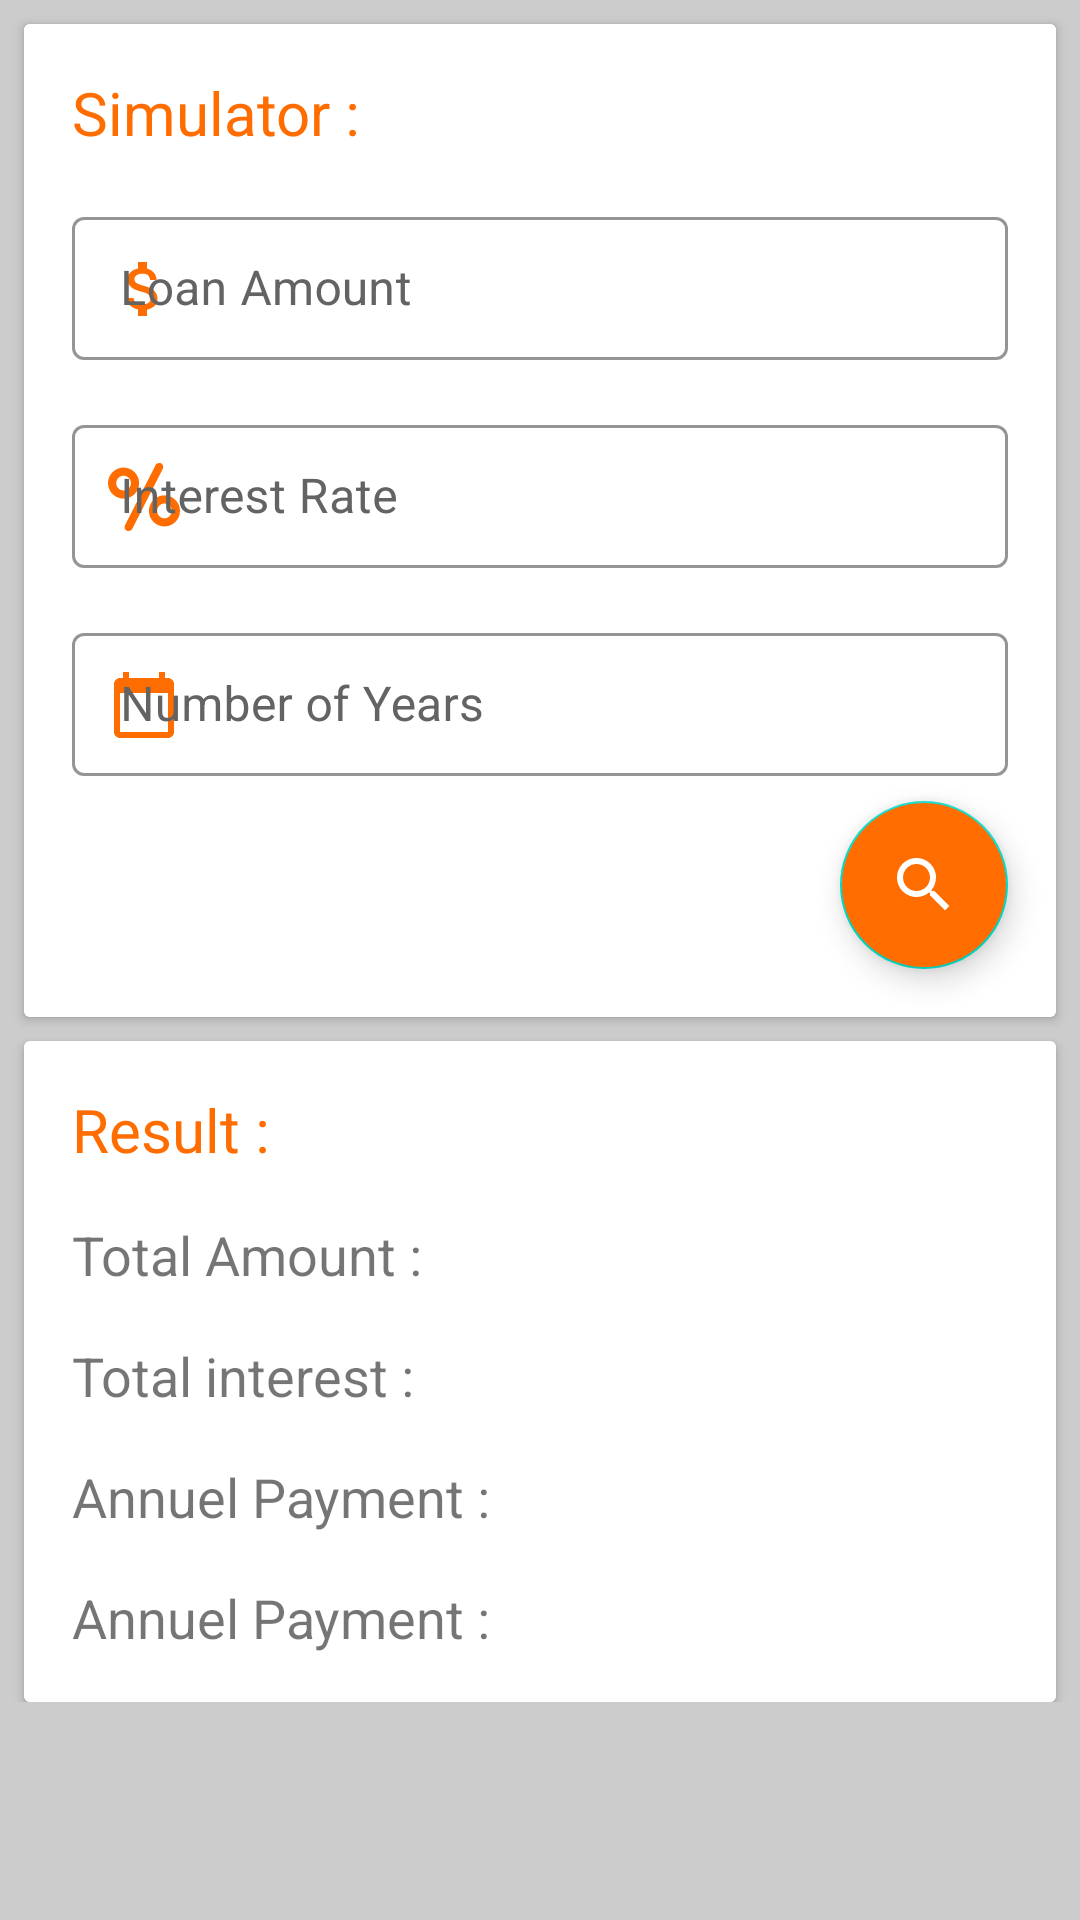

Locate icon controls on the screen. Image size 1080 × 1920, boxes as [left=x1, top=y1, right=x2, bottom=y2].
search: [left=840, top=801, right=1008, bottom=969]
